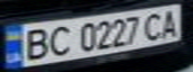0: (75, 19, 96, 53)
2: (93, 17, 115, 51), (109, 15, 130, 48)
7: (124, 12, 145, 45)
A: (157, 7, 184, 38)
B: (15, 26, 54, 62)
C: (42, 24, 75, 57), (139, 9, 169, 40)
